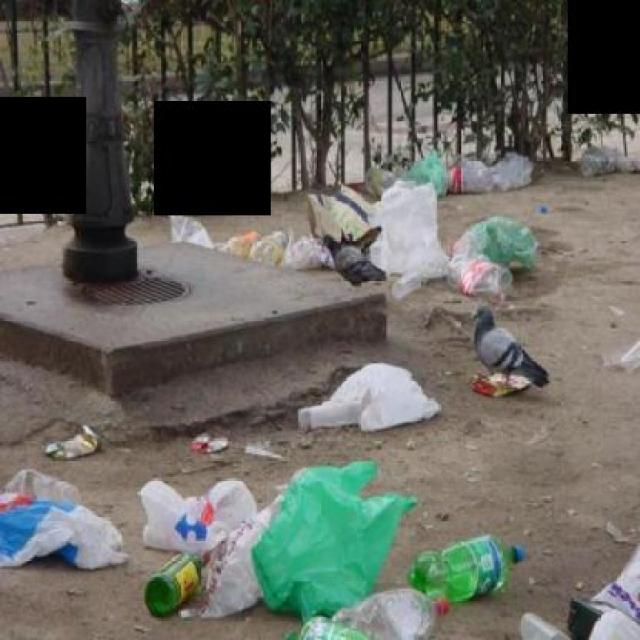plastic bag: (169, 171, 451, 278), (251, 460, 426, 617), (175, 488, 283, 620), (0, 491, 129, 572), (138, 477, 258, 552), (323, 358, 439, 431), (455, 217, 540, 266), (592, 537, 638, 623), (406, 155, 451, 197), (365, 163, 403, 200), (494, 153, 534, 184)
